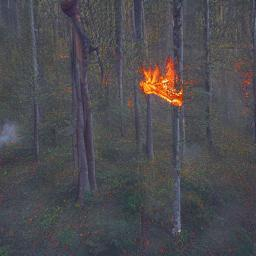Small fire: (127, 43, 206, 124)
